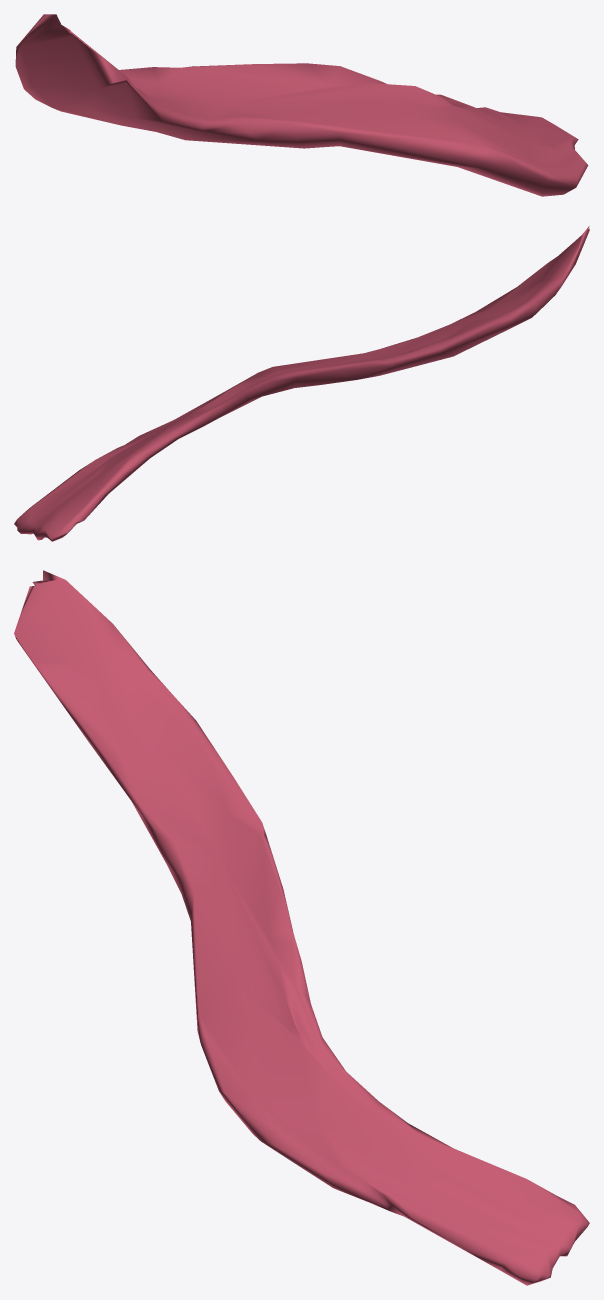
3 views of the same model, one above another, from view 1: azimuth 30°, elevation 25°; view 2: azimuth 150°, elevation 25°; view 3: azimuth 270°, elevation 25° (orthographic). The views are drawn at different scales.
Parts seen in each view (by area): view 1: 右侧颧小肌; view 2: 右侧颧小肌; view 3: 右侧颧小肌.
Part boxes in pixels (box(x1,y1,x2,y2)): 右侧颧小肌: box(15, 14, 588, 196); 右侧颧小肌: box(14, 226, 589, 541); 右侧颧小肌: box(14, 570, 589, 1285).
Size of the model in its own units: 0.0554 by 0.0363 by 0.0451.
